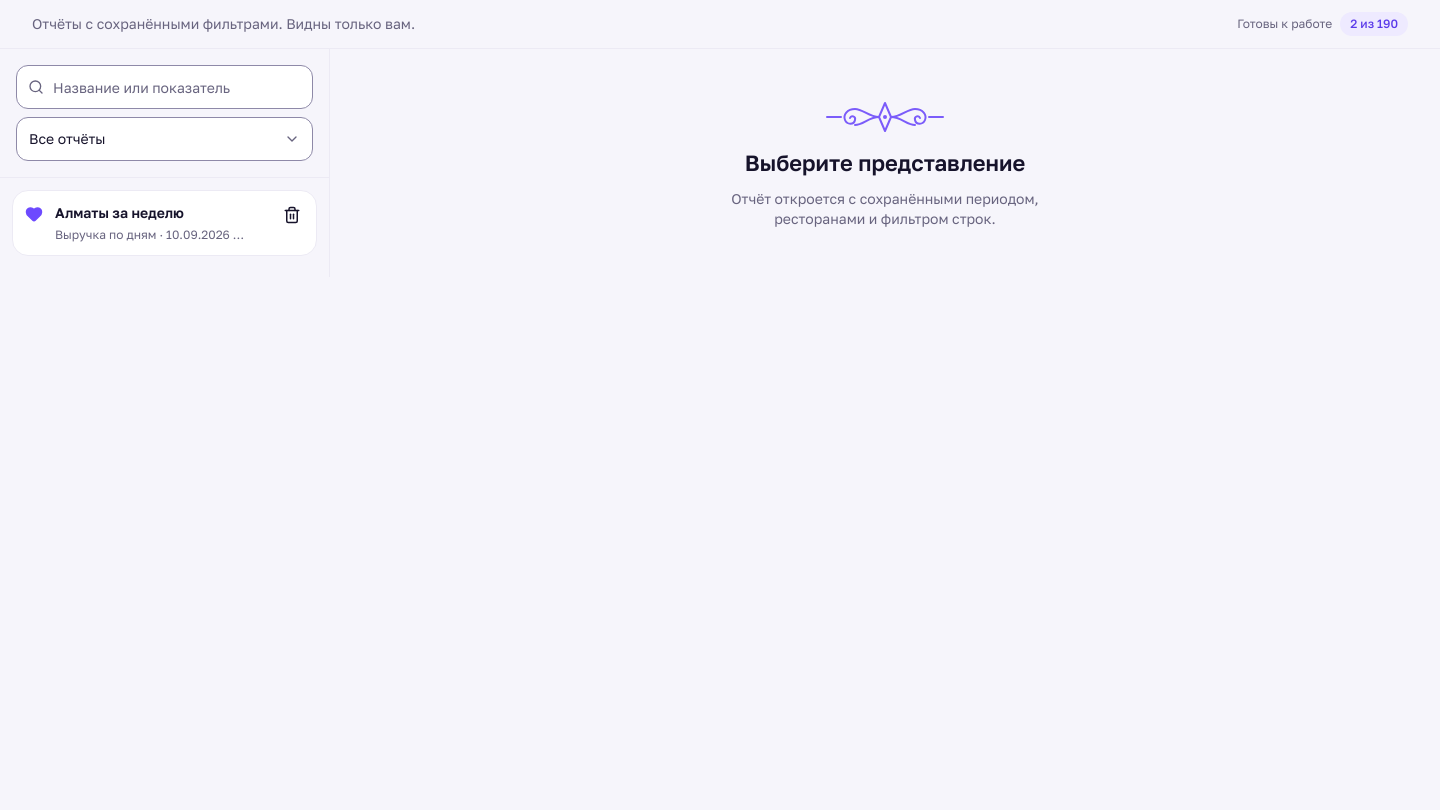
Test: favorites and saved views (W1-RPT-05) › opening a saved view restores its filters
The width and height of the screenshot is (1440, 810).
What coordinates should you click on to do the following:
click the link "Алматы за неделю"
I would click on:
 (167, 223)
Its box is [25,204,308,242].
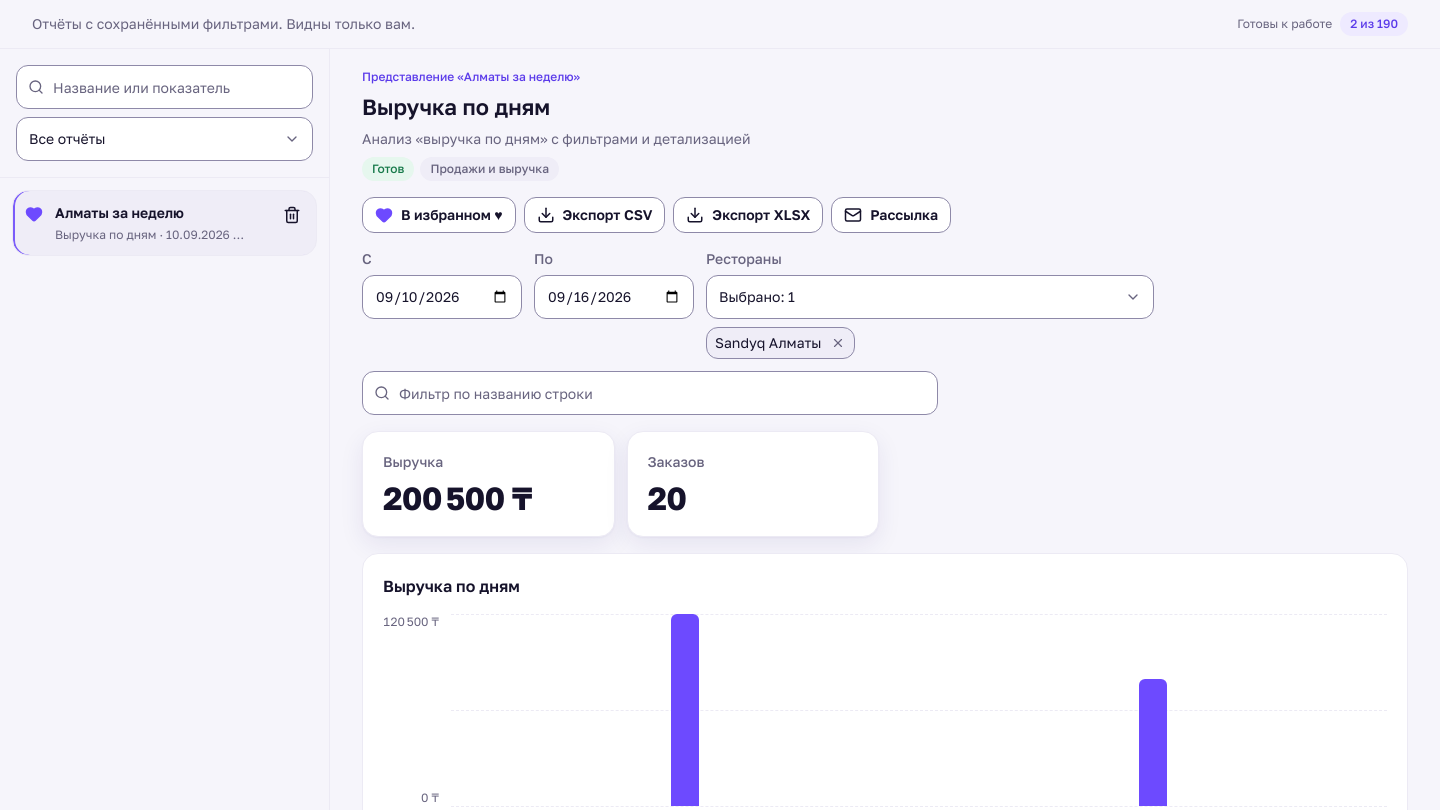
Expected: the text "Представление «Алматы за неделю»" is shown, [362,69,580,84]
